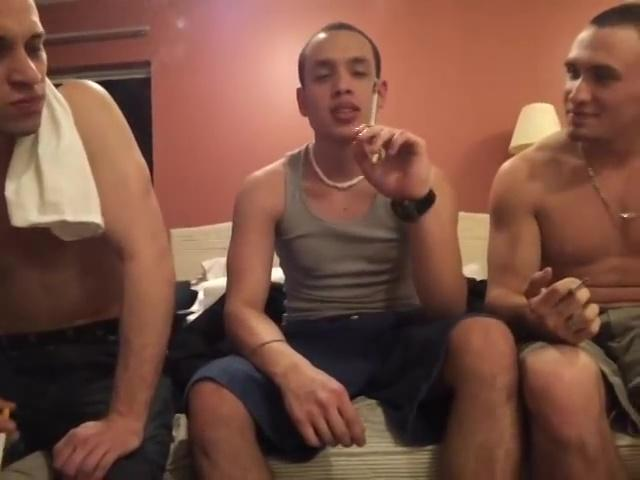cigarette: (0, 401, 12, 470), (366, 79, 382, 130), (562, 275, 594, 299)
